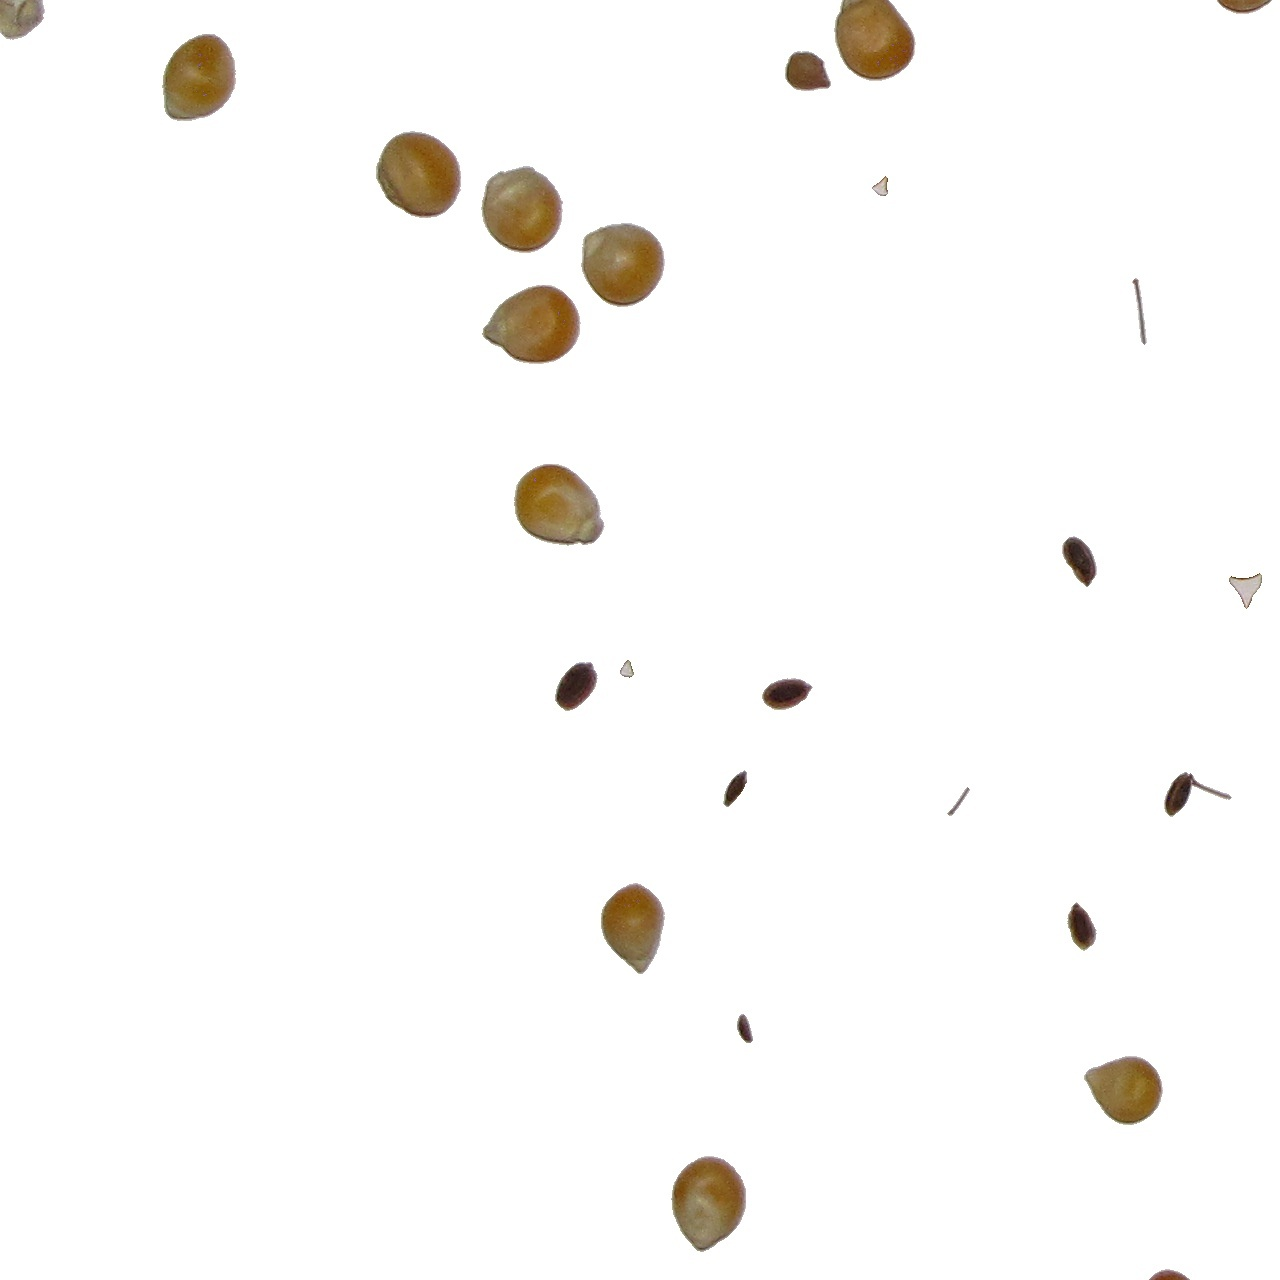buckwheat: (554, 661, 599, 712), (1061, 535, 1098, 588), (761, 678, 813, 712), (1065, 904, 1098, 955), (726, 771, 753, 821), (1228, 572, 1262, 610), (1131, 277, 1148, 346), (946, 787, 971, 817), (871, 175, 888, 197), (619, 659, 635, 679)
dill: (1163, 771, 1233, 818)
mais: (481, 284, 583, 365), (513, 463, 606, 547), (375, 130, 462, 219), (670, 1155, 747, 1253), (580, 222, 666, 308), (481, 165, 564, 254), (161, 33, 237, 122), (836, 1, 915, 82), (600, 881, 666, 975), (1083, 1055, 1164, 1126), (1136, 1268, 1203, 1280)
other: (784, 50, 832, 91), (736, 1013, 754, 1044)
